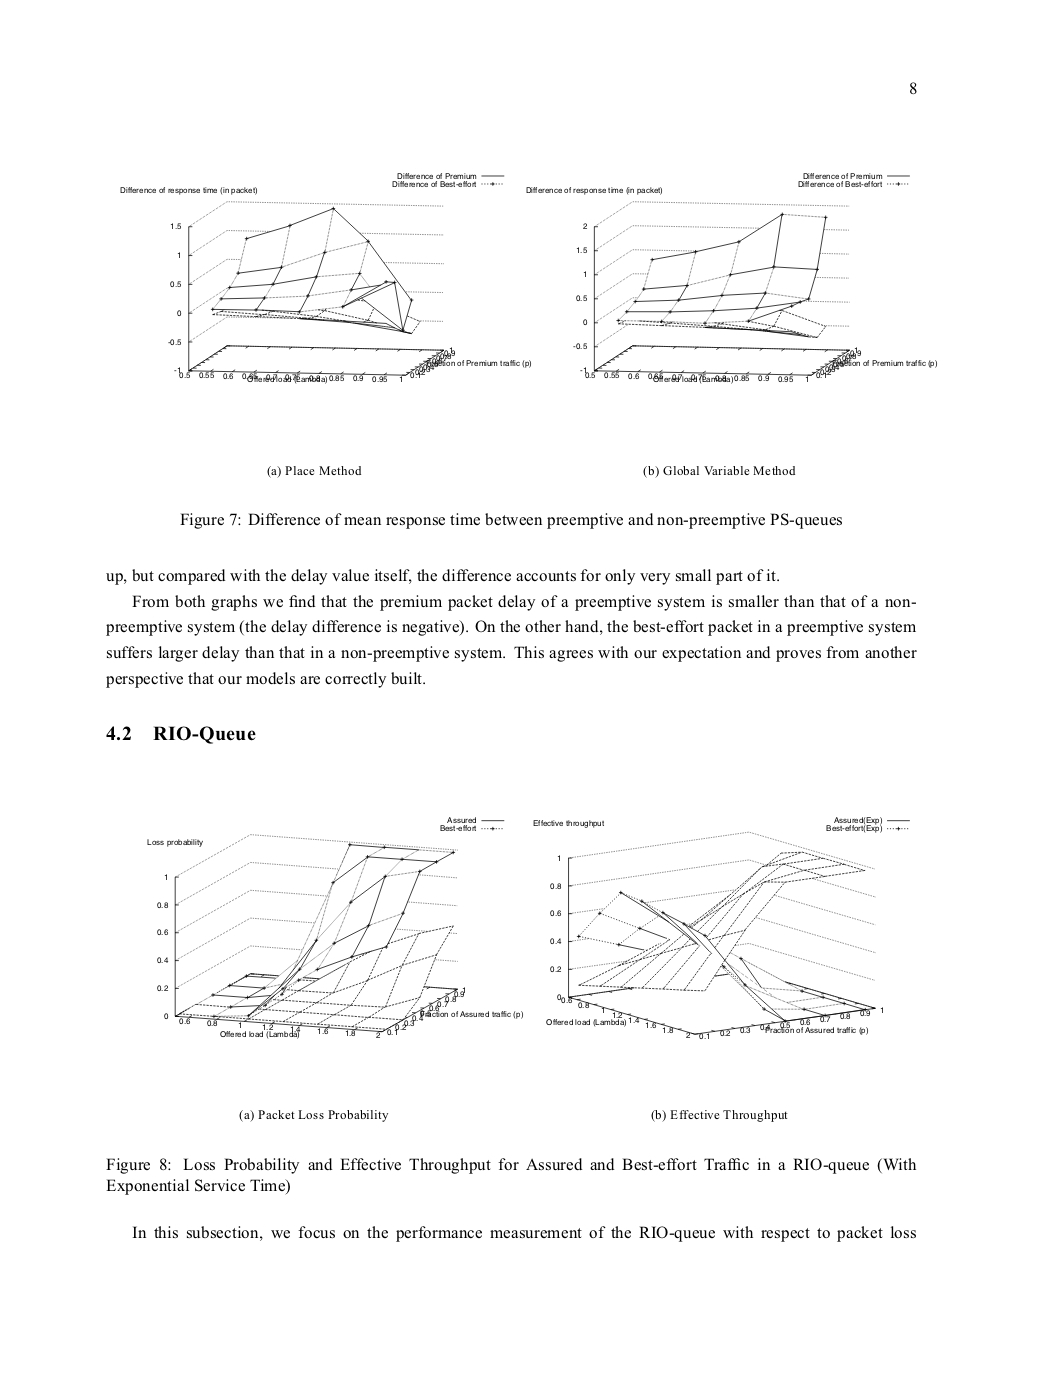figure: (533, 815, 909, 1040), (147, 816, 522, 1039), (573, 201, 936, 383), (168, 201, 530, 383)
